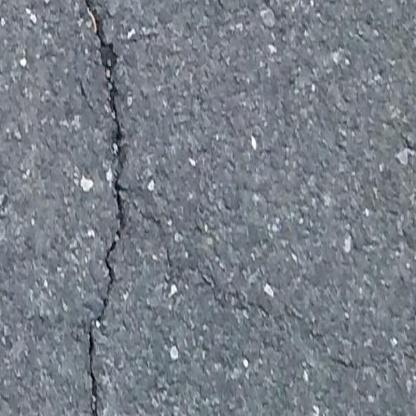Cracks: (85, 151, 131, 416), (74, 0, 126, 149)
